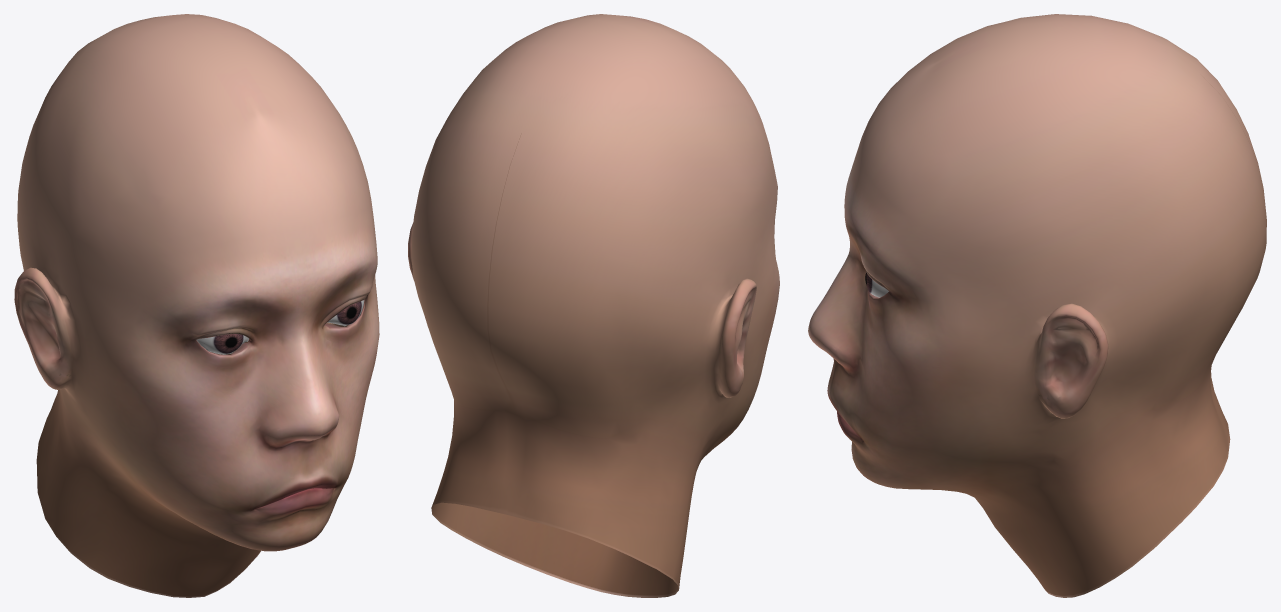
The model's file is sad.glb.
The picture shows the model from 3 angles, left to right: view 1: azimuth 30°, elevation 25°; view 2: azimuth 150°, elevation 25°; view 3: azimuth 270°, elevation 25°; orthographic projection.
Visible parts, largest first — view 1: Mesh_0, Mesh_1; view 2: Mesh_0; view 3: Mesh_0.
Boxes of the visible parts, x1,y1,x2,y2 form: Mesh_0: (14, 14, 379, 597); Mesh_1: (196, 300, 364, 354); Mesh_0: (408, 14, 779, 597); Mesh_0: (808, 14, 1266, 597).
Size of the model in its own units: 365 by 595 by 445.
Materials: 2 (2 with a texture image).
